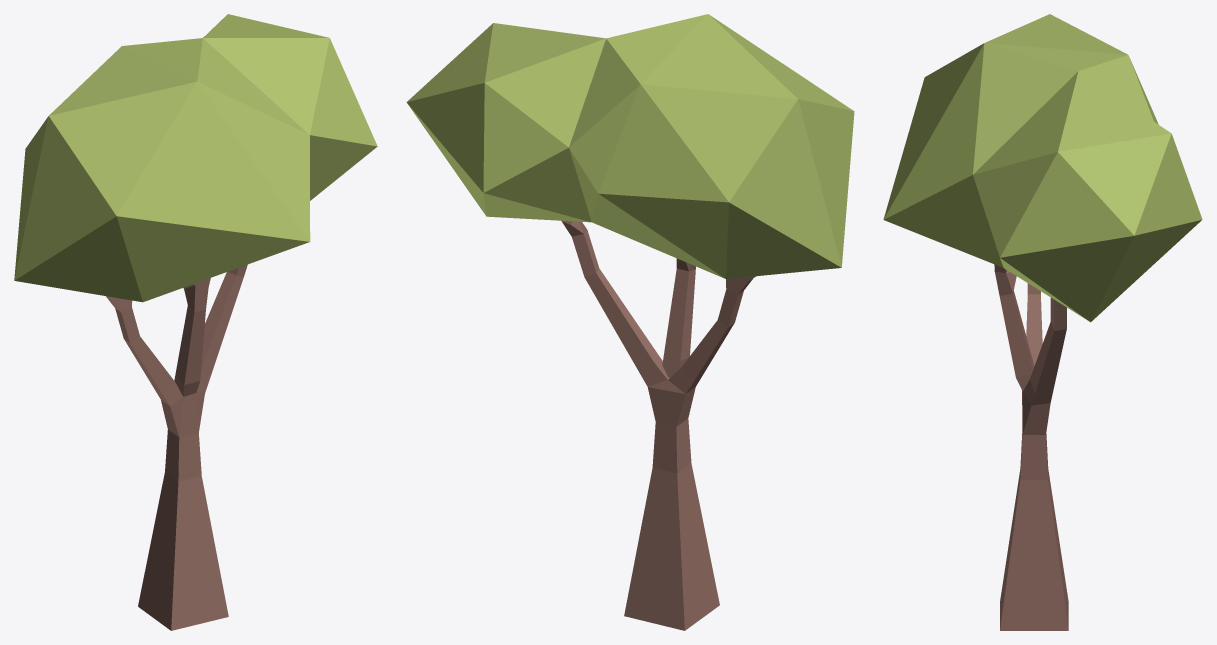
The model's file is Jungle Tree.fbx.
3 views of the same model, side by side, from view 1: azimuth 30°, elevation 25°; view 2: azimuth 150°, elevation 25°; view 3: azimuth 270°, elevation 25° (orthographic). The views are drawn at different scales.
Parts seen in each view (by area): view 1: Tree; view 2: Tree; view 3: Tree.
Part boxes in pixels (x1,y1,x2,y2): Tree: (14,14,377,630); Tree: (406,14,854,630); Tree: (883,14,1202,630).
Size of the model in its own units: 2.47 by 3.52 by 1.79.
